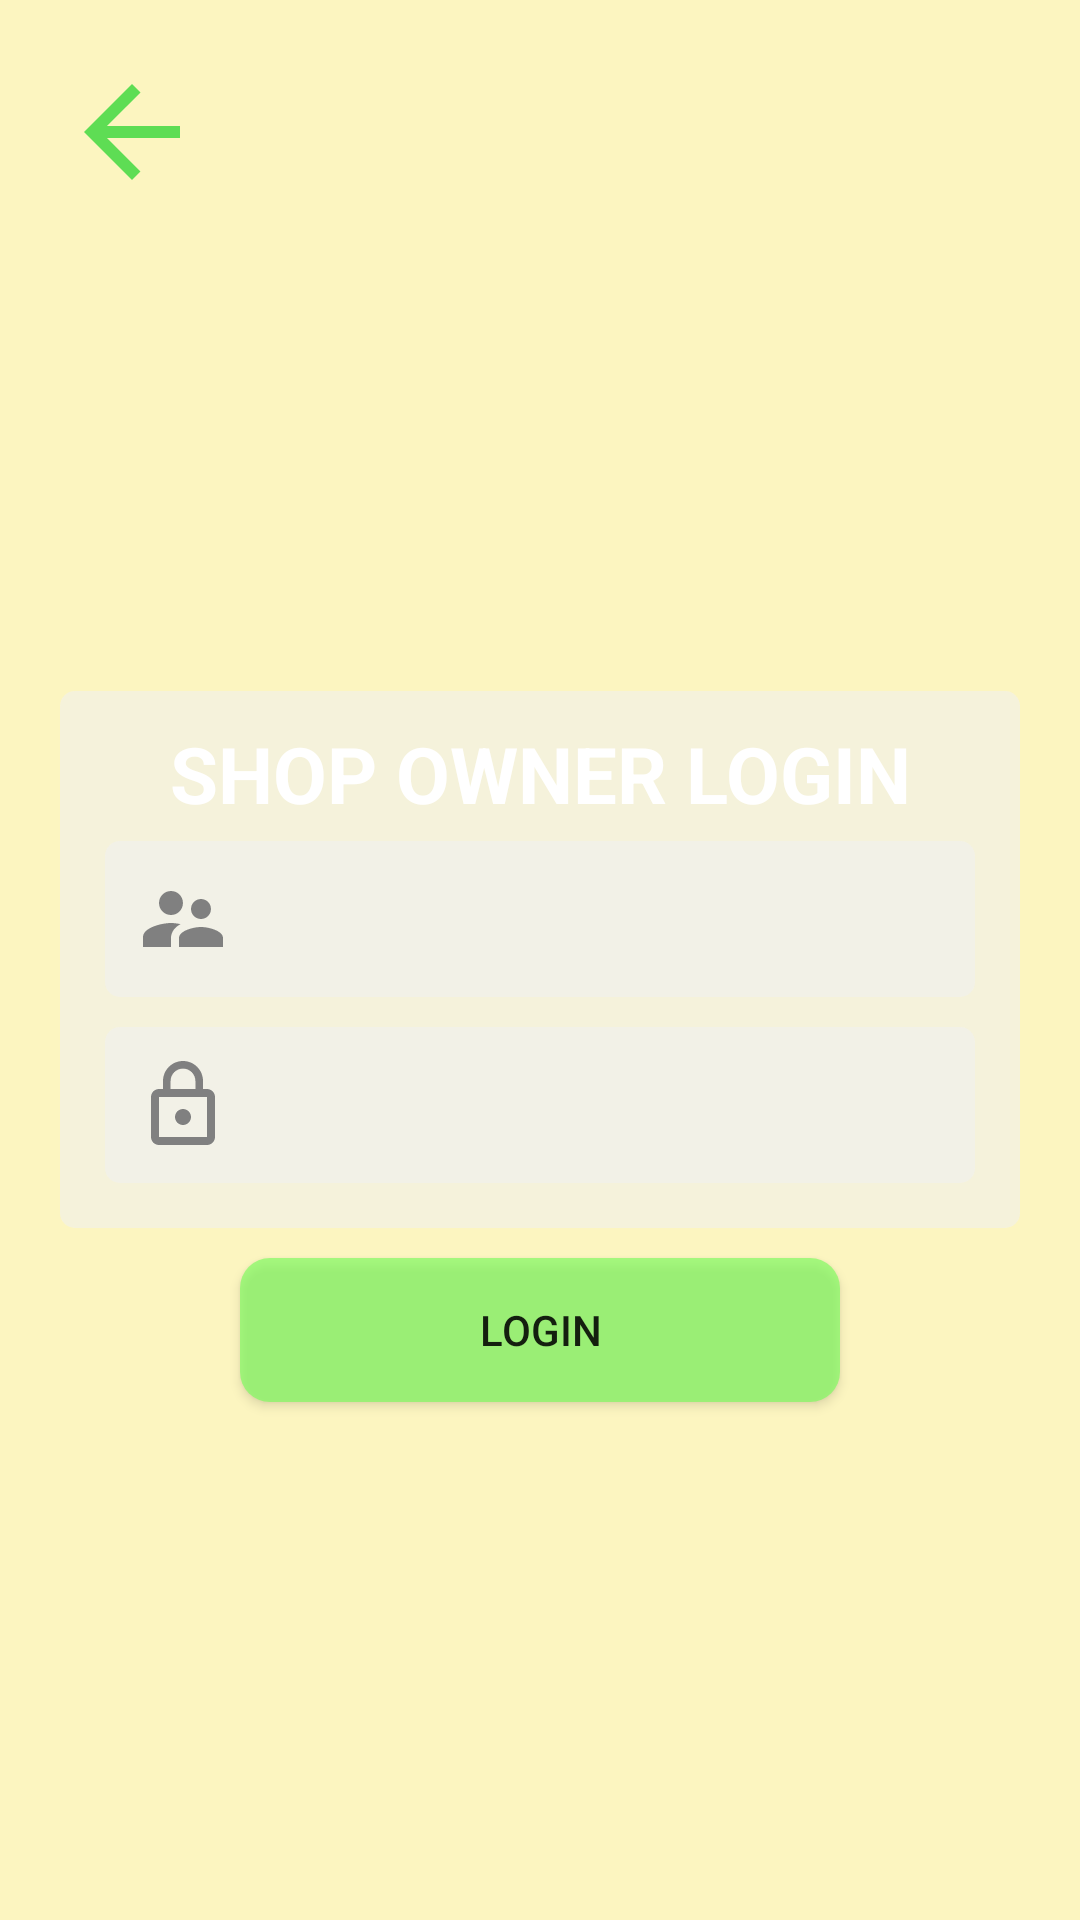

Where to tap for icons on this 1080x1920 app screen, as (x,y):
arrow back: (132,132)
